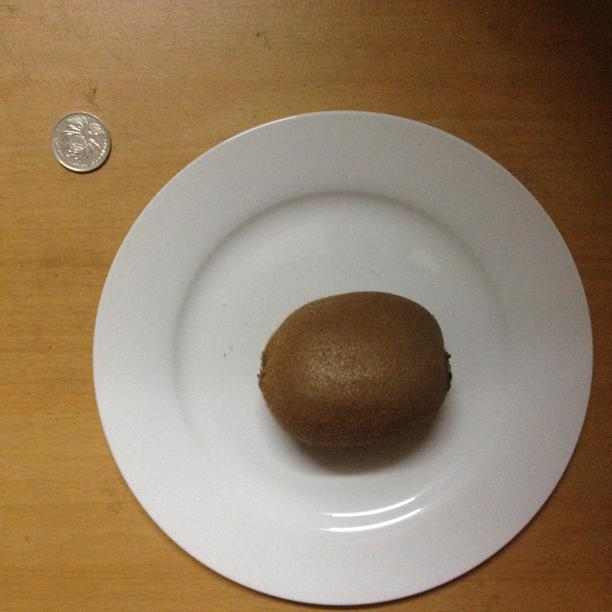coin: (52, 112, 110, 172)
qiwi: (259, 294, 449, 445)
